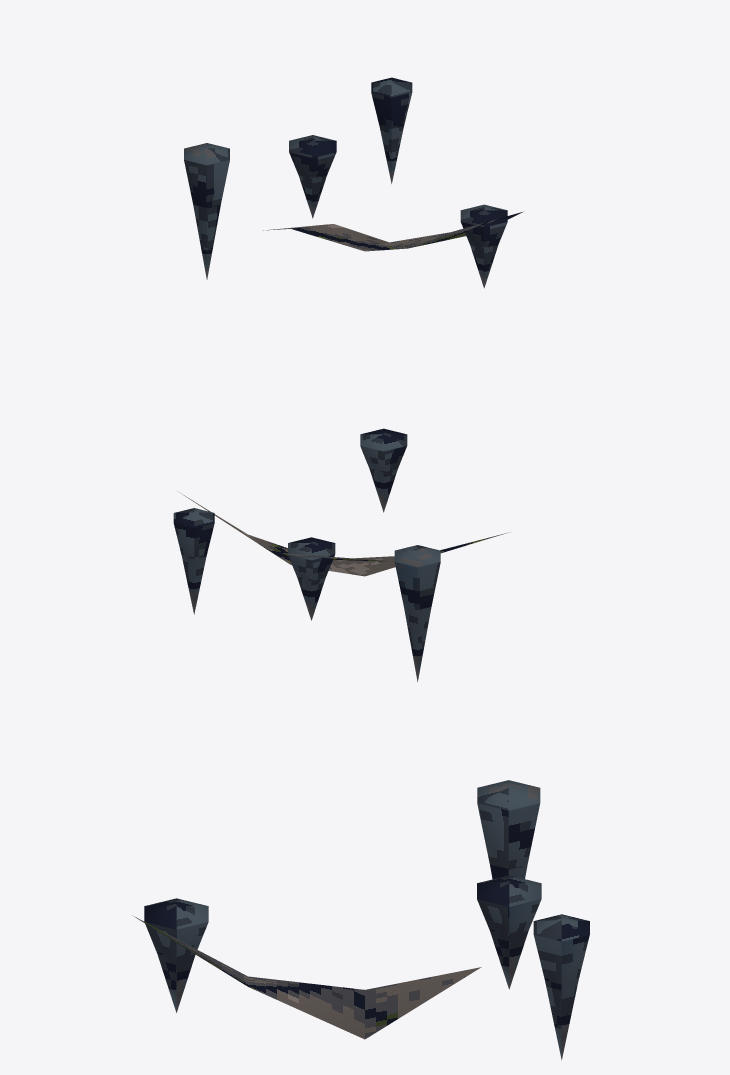
The model's file is cave.ceiling.glb.
The picture shows the model from 3 angles, top to bottom: view 1: azimuth 30°, elevation 25°; view 2: azimuth 150°, elevation 25°; view 3: azimuth 270°, elevation 25°; orthographic projection. The views are drawn at different scales.
Parts seen in each view (by area): view 1: kit_stalactites, kit_shell_ceiling; view 2: kit_stalactites, kit_shell_ceiling; view 3: kit_stalactites, kit_shell_ceiling.
Part boxes in pixels (x1,y1,x2,y2): kit_stalactites: (184,77,507,288); kit_shell_ceiling: (263,211,523,251); kit_stalactites: (173,428,440,681); kit_shell_ceiling: (179,492,510,576); kit_stalactites: (144,780,589,1059); kit_shell_ceiling: (134,916,481,1039).
Size of the model in its own units: 4 by 1.16 by 4.
Materials: 2 (2 with a texture image).
